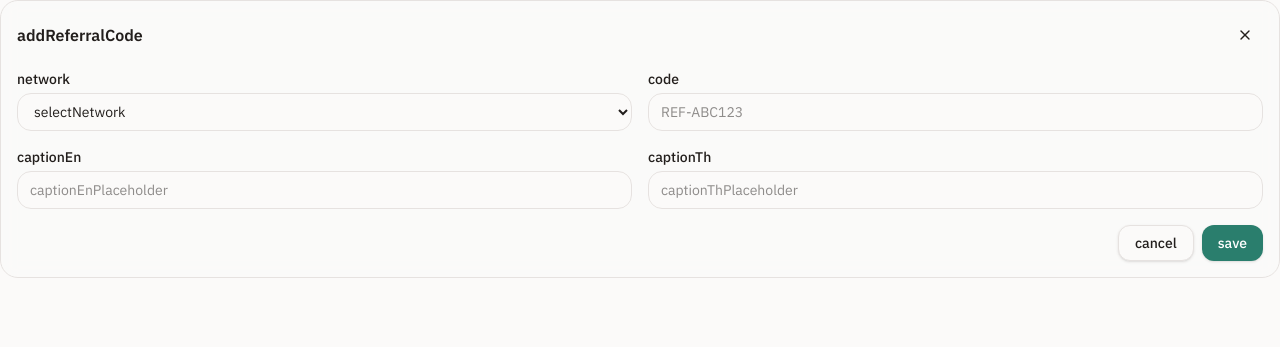
Test: ReferralCodeForm › error handling › shows error on failed save
The image size is (1280, 347).
Step 1. Select "Network A" in the dropdown → (324, 112), box [17, 93, 632, 131]
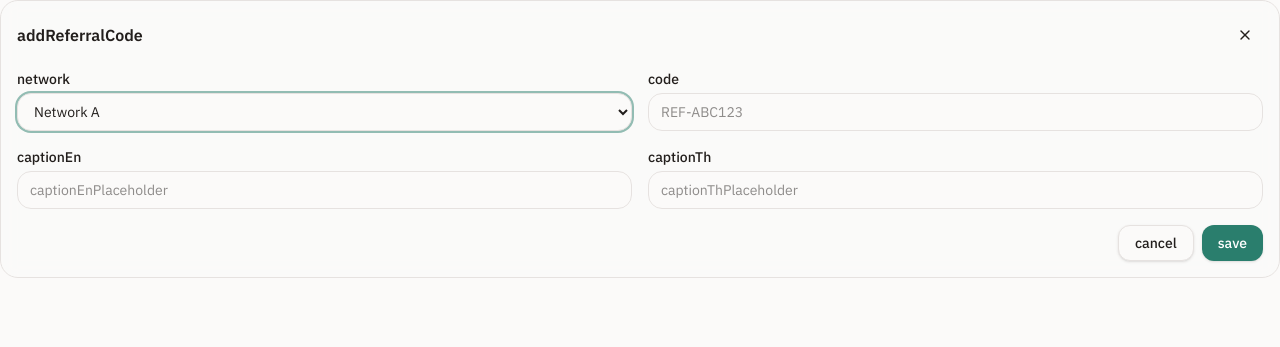
Step 2. Type "CODE" into the field with placeholder "REF-ABC123" → (956, 112), box [648, 93, 1263, 131]
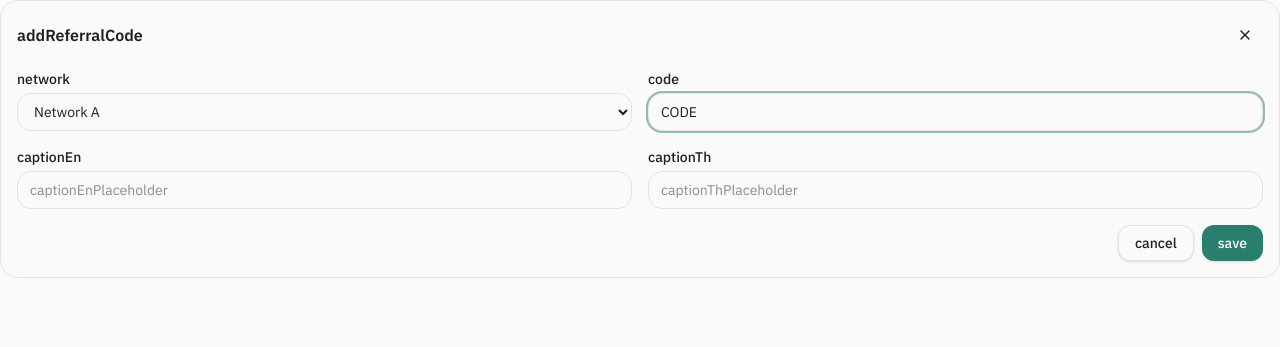
Step 3. Click the button "save" → (1232, 243), box [1202, 225, 1263, 261]
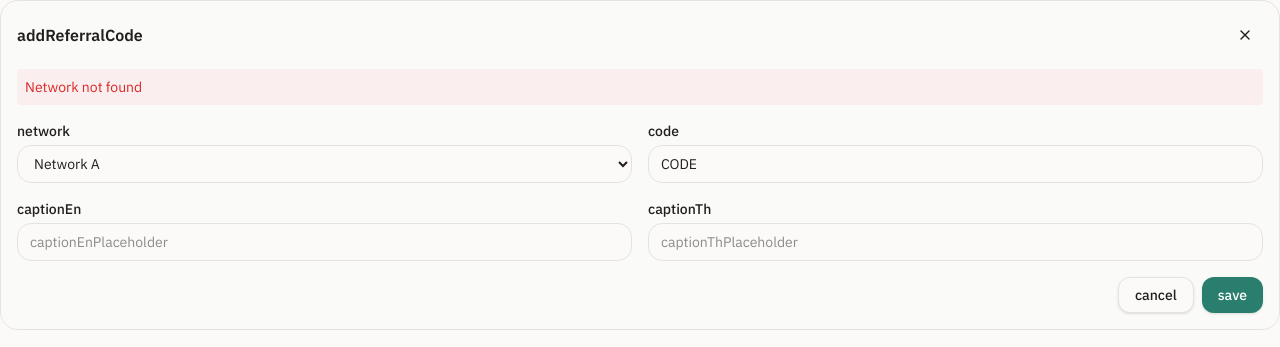
expect the text "Network not found" is shown: met, box [17, 69, 1263, 105]
